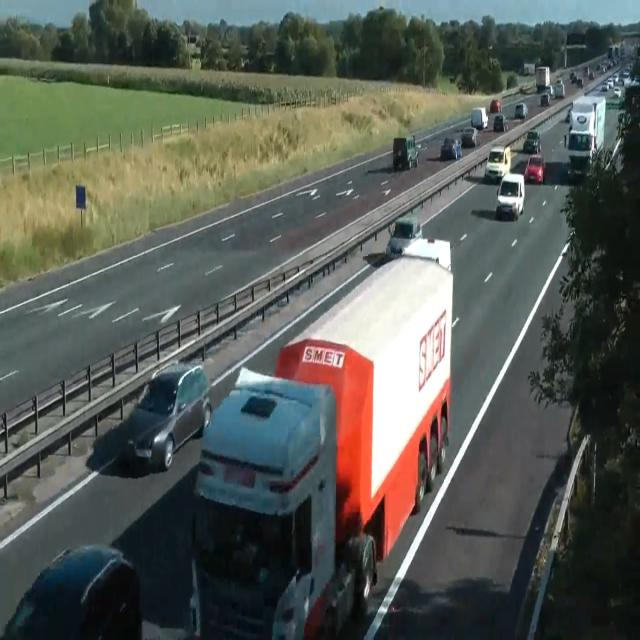bus: (126, 361, 212, 471), (386, 214, 422, 256), (440, 137, 462, 160), (459, 126, 479, 147), (493, 113, 507, 131), (514, 102, 528, 119), (489, 99, 501, 113), (540, 92, 550, 105), (569, 70, 577, 84), (576, 77, 584, 87)
car: (191, 222, 454, 638), (2, 542, 142, 638)
jeep: (496, 172, 524, 220), (563, 129, 593, 168), (392, 134, 419, 170), (484, 145, 510, 180), (524, 153, 545, 183), (523, 129, 541, 154)
minibus: (564, 94, 606, 178), (471, 106, 488, 130), (536, 66, 550, 92), (555, 79, 565, 98), (524, 63, 534, 76)
